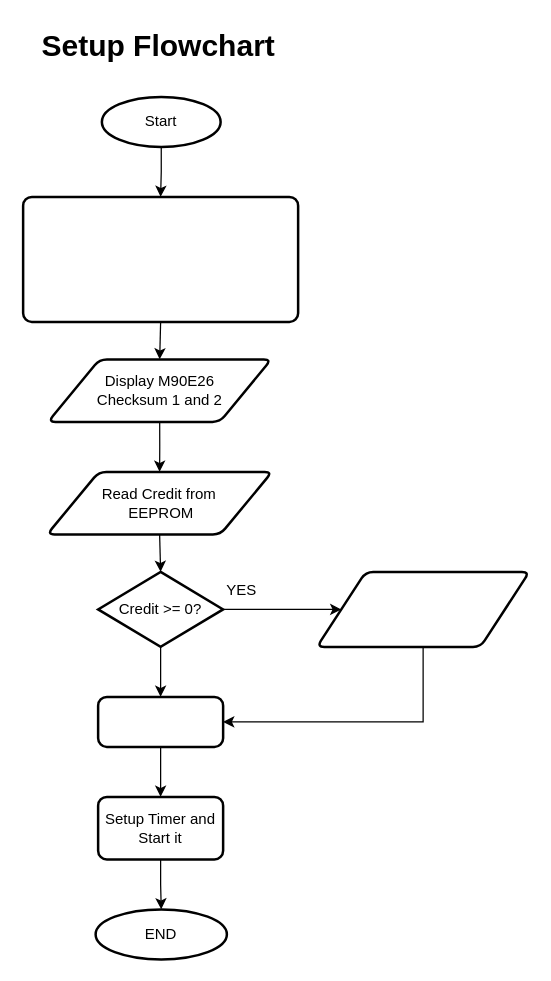
Image size: 551x981. Some labels were removed from this diagram. Here are the shapes that lost their labels. From the top down, the centre of each, then its label:
pixel 160 258: Initializations: LCD Buzzer, Relay Driver and LEDs Pin M90E26 SIM800C RTC
pixel 422 609: Write Credit to EEPROM
pixel 160 721: Turn Relay ON
